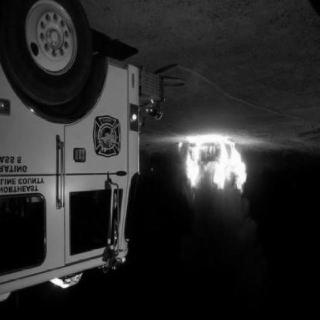Fire: (180, 131, 252, 200)
